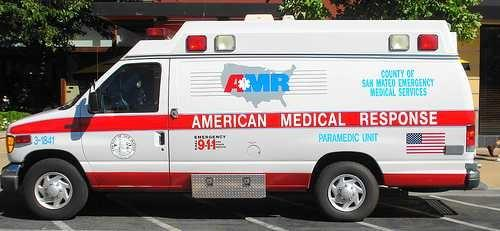car: (0, 12, 481, 221)
